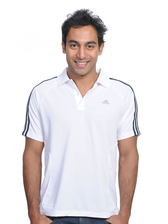clothoes: (20, 68, 141, 218)
